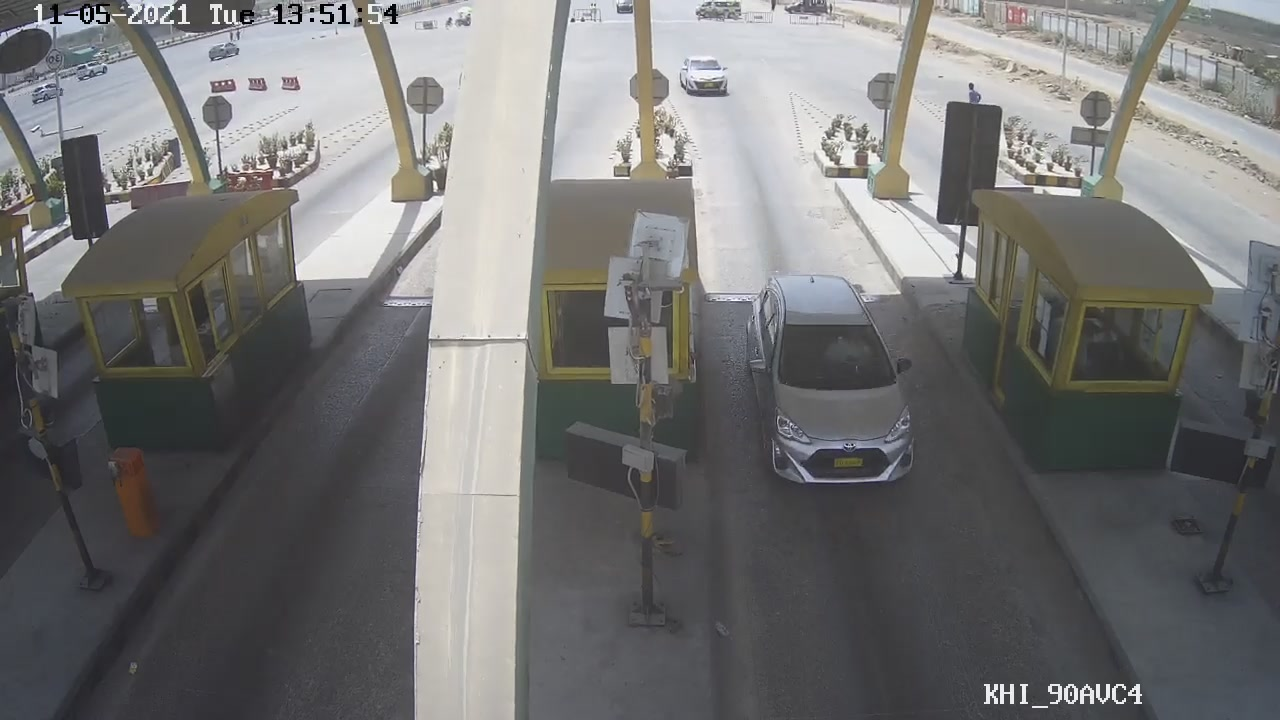F1: (741, 267, 920, 493)
